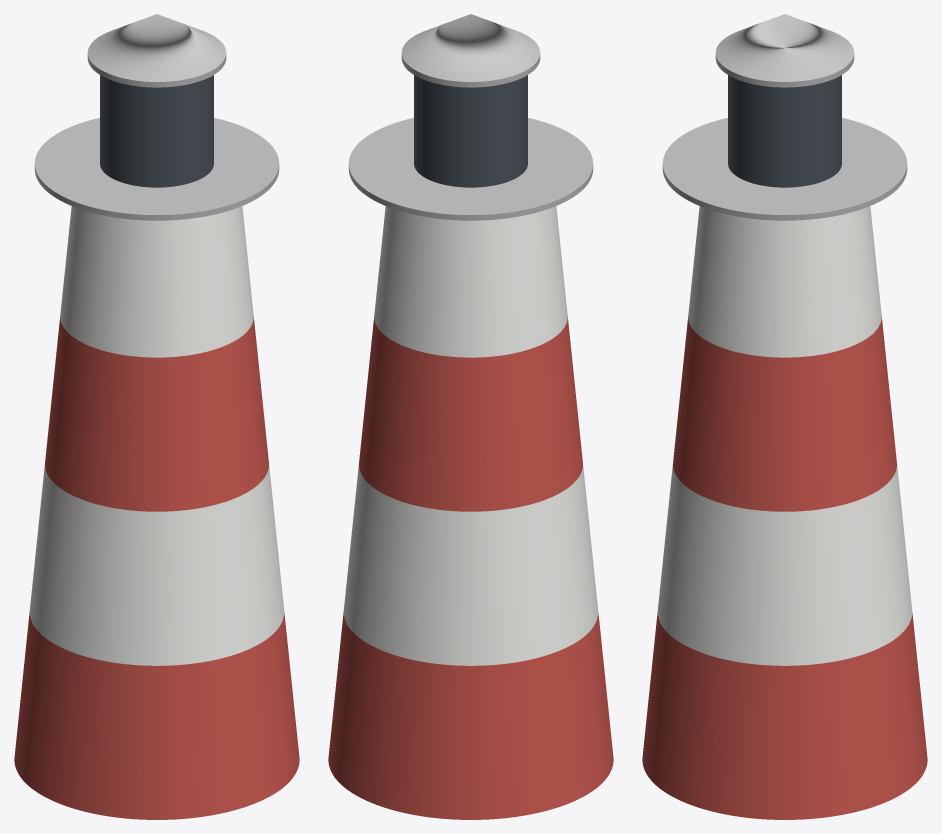
File: lighthouse.glb
3 renders of one model, left to right at view 1: azimuth 30°, elevation 25°; view 2: azimuth 150°, elevation 25°; view 3: azimuth 270°, elevation 25°, orthographic.
Parts seen in each view (by area): view 1: band_1, band_2, band_3, band_4, gallery, lantern_glass, lantern_roof; view 2: band_1, band_2, band_3, band_4, gallery, lantern_glass, lantern_roof; view 3: band_1, band_2, band_3, band_4, gallery, lantern_glass, lantern_roof.
Boxes of the visible parts, box(x1,y1,x2,y2) form: band_1: box(14, 613, 299, 819); band_2: box(29, 465, 284, 665); band_3: box(45, 317, 268, 511); band_4: box(60, 206, 253, 357); gallery: box(34, 118, 279, 220); lantern_glass: box(100, 75, 213, 187); lantern_roof: box(87, 14, 226, 87); band_1: box(328, 613, 613, 819); band_2: box(343, 465, 598, 665); band_3: box(359, 317, 582, 511); band_4: box(374, 206, 567, 357); gallery: box(348, 118, 593, 220); lantern_glass: box(414, 75, 527, 187); lantern_roof: box(401, 14, 540, 87); band_1: box(642, 613, 927, 819); band_2: box(657, 465, 912, 665); band_3: box(673, 317, 896, 511); band_4: box(688, 206, 881, 357); gallery: box(662, 118, 907, 220); lantern_glass: box(728, 75, 841, 187); lantern_roof: box(715, 14, 854, 87).
Size of the model in its own units: 7 by 20.2 by 7.
